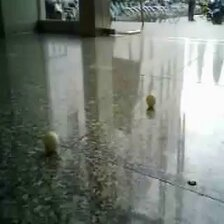w: (43, 132, 59, 152), (145, 94, 158, 107)
